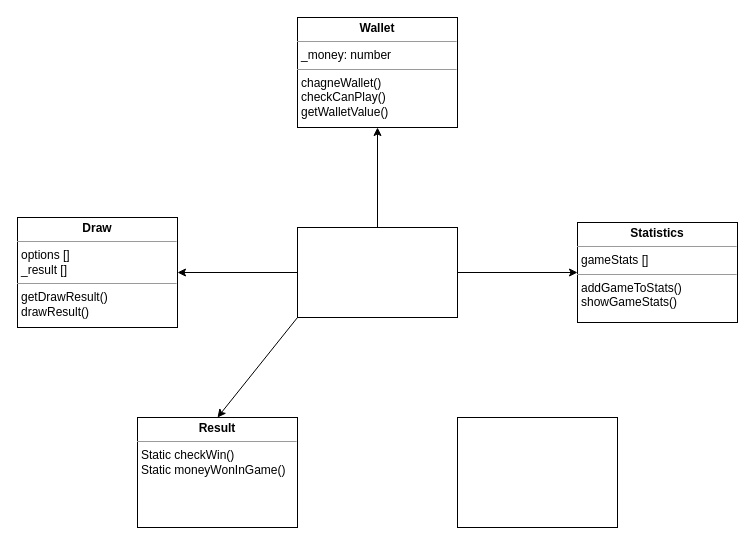
This 755x545 diagram has some shape labels left out. The centre of each missing label's shape, as x and y in pixels:
"Game Connect with DOM startGame() render()" belongs at point 377,272.
"Level" belongs at point 537,472.
